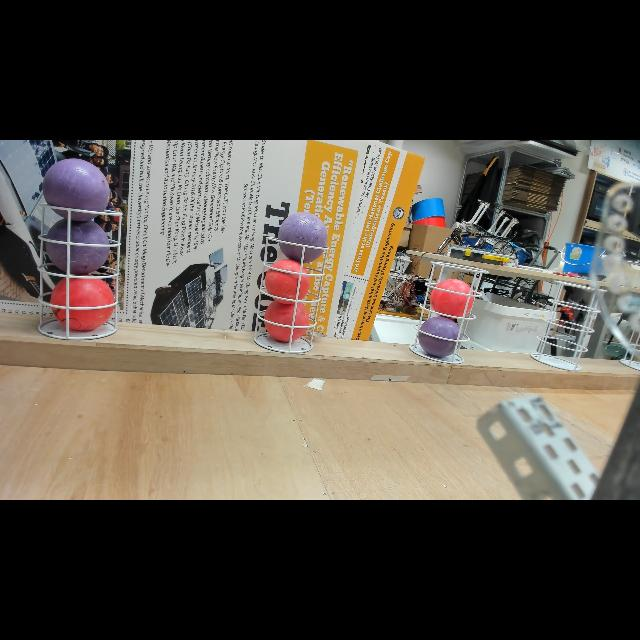P: (41, 158, 110, 222), (44, 217, 112, 276), (278, 212, 328, 264), (418, 316, 462, 358)
R: (50, 274, 116, 332), (265, 258, 311, 304), (264, 298, 310, 344), (430, 278, 474, 320)
S: (36, 202, 124, 341), (252, 236, 330, 354), (408, 260, 490, 364), (530, 278, 608, 374), (618, 313, 640, 371)
